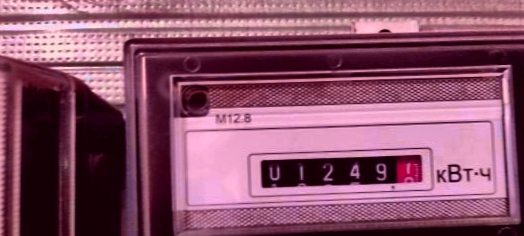0: (267, 159, 282, 179)
1: (294, 158, 307, 179)
2: (319, 158, 336, 180)
4: (348, 157, 362, 177)
7: (402, 152, 415, 172)
9: (374, 158, 388, 179)
screen: (244, 140, 437, 197)
